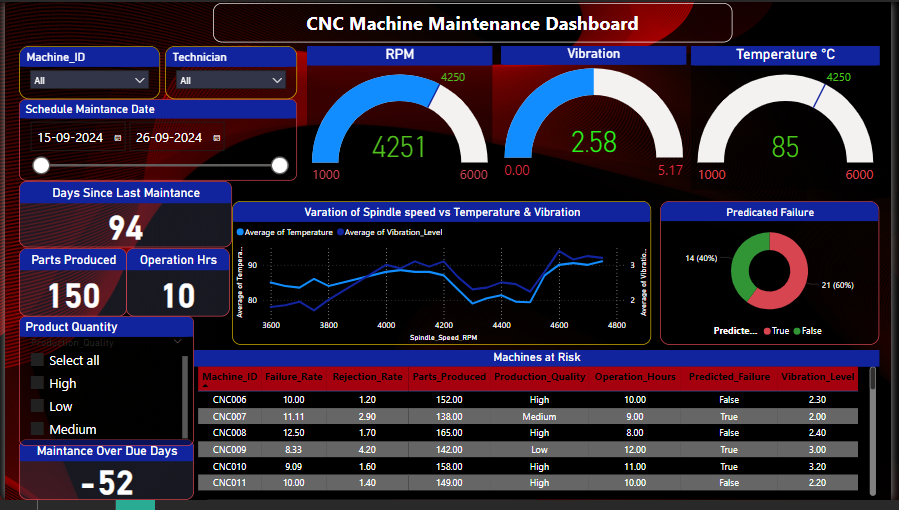

This screenshot's page, from the dashboard's own definition file:
{"tool":"powerbi","page":{"name":"Page 2","canvas":[1280,720],"ordinal":0},"visuals":[{"type":"card","title":"Operation Hrs","fields":{"Values":["predective_model_merged_data.Operation_Hours"]},"box":[175.2,355.1,149.9,99.4],"z":0},{"type":"card","title":"Maintance Over Due Days","fields":{"Values":["predective_model_merged_data.Maintenance_overdue_days"]},"box":[20.5,631.3,252.5,88.4],"z":1000},{"type":"card","title":"Successful Builds","fields":{"Values":["AzureDashboard.Succesful Build"]},"box":[1007.4,514.8,239.4,96.9],"z":2000},{"type":"card","title":"Days Since Last Maintance","fields":{"Values":["predective_model_merged_data.Time_Since_Last_Maintenance"]},"box":[20.5,258.8,307.8,96.3],"z":3000},{"type":"donutChart","title":"Predicated Failure","fields":{"Category":["predective_model_merged_data.Predicted_Failure"],"Y":["predective_model_merged_data.Technician_Name_x"]},"box":[947,287.7,316.6,208.2],"z":4000},{"type":"card","title":"Parts Produced","fields":{"Values":["predective_model_merged_data.Parts_Produced"]},"box":[20.5,355.1,156.3,99.4],"z":5000},{"type":"slicer","title":"Schedule Maintance Date","fields":{"Values":["predective_model_merged_data.Next_Schedule_Maintenance_Date"]},"box":[20.5,140.5,402.5,118.4],"z":6000},{"type":"slicer","title":"Machine_ID","fields":{"Values":["predective_model_merged_data.Machine_ID"]},"box":[20.5,63.1,203.6,77.3],"z":7000},{"type":"lineChart","title":"Varation of Spindle speed vs Temperature & Vibration","fields":{"Category":["predective_model_merged_data.Spindle_Speed_RPM"],"Y":["predective_model_merged_data.Temperature"],"Y2":["predective_model_merged_data.Vibration_Level"]},"box":[328.3,287.3,606.1,208.3],"z":8000},{"type":"columnChart","title":"Varation of Spindle speed vs Temperature","fields":{"Category":["predective_model_merged_data.Predicted_Failure"]},"box":[283.7,527.2,495.4,192.3],"z":9000},{"type":"tableEx","title":"Machines at Risk","fields":{"Values":["predective_model_merged_data.Machine_ID","predective_model_merged_data.Failure_Rate","predective_model_merged_data.Rejection_Rate","predective_model_merged_data.Parts_Produced","predective_model_merged_data.Production_Quality","predective_model_merged_data.Operation_Hours","predective_model_merged_data.Predicted_Failure","predective_model_merged_data.Vibration_Level"]},"box":[273,503.5,991.2,216.2],"z":10000},{"type":"slicer","title":"Product Quantity","fields":{"Values":["predective_model_merged_data.Production_Quality"]},"box":[20.5,454.5,252.5,187.8],"z":11000},{"type":"textbox","box":[301,1,750.9,56.6],"z":12000},{"type":"gauge","fields":{"Y":["predective_model_merged_data.Spindle_Speed_RPM"]},"box":[437.2,63.1,268.3,208.3],"z":13000},{"type":"gauge","fields":{"Y":["predective_model_merged_data.Temperature"]},"box":[991.2,63.1,273,208.3],"z":14000},{"type":"slicer","title":"Technician","fields":{"Values":["predective_model_merged_data.Machine_ID"]},"box":[232,63.1,191,77.3],"z":15000},{"type":"gauge","title":"Vibration","fields":{"Y":["predective_model_merged_data.Vibration_Level"]},"box":[716.5,63.1,268.3,208.3],"z":16000}]}

Visuals, with their boxes in screenshot pixels (x1, y1, x2, y2), scaled from the page's 1280x720 canvas onto the 899x510 screenshot:
"Operation Hrs" card: (123,252,228,322)
"Maintance Over Due Days" card: (14,447,192,509)
"Successful Builds" card: (708,365,876,433)
"Days Since Last Maintance" card: (14,183,231,252)
"Predicated Failure" donutChart: (665,204,887,351)
"Parts Produced" card: (14,252,124,322)
"Schedule Maintance Date" slicer: (14,100,297,183)
"Machine_ID" slicer: (14,45,157,99)
"Varation of Spindle speed vs Temperature & Vibration" lineChart: (231,204,656,351)
"Varation of Spindle speed vs Temperature" columnChart: (199,373,547,509)
"Machines at Risk" tableEx: (192,357,888,509)
"Product Quantity" slicer: (14,322,192,455)
textbox: (211,1,739,41)
gauge - predective_model_merged_data.Spindle_Speed_RPM: (307,45,496,192)
gauge - predective_model_merged_data.Temperature: (696,45,888,192)
"Technician" slicer: (163,45,297,99)
"Vibration" gauge: (503,45,692,192)
